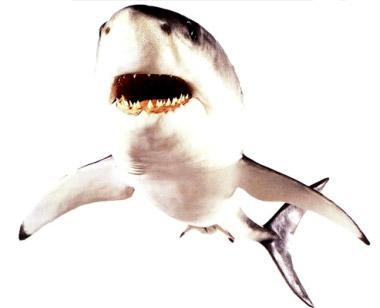fish: (16, 6, 374, 303)
